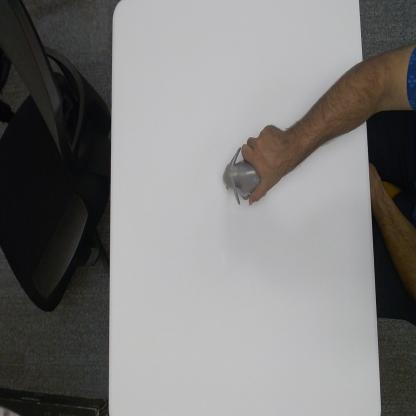Arm: (290, 61, 367, 175)
Elephant: (222, 146, 262, 207)
Hand: (241, 116, 289, 204)
